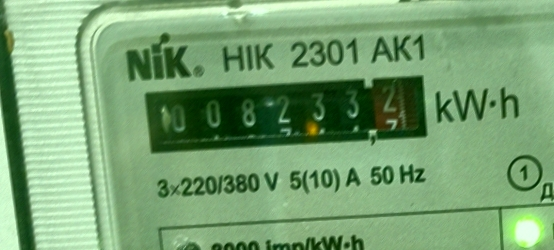0: (168, 102, 190, 135), (204, 99, 225, 131)
2: (273, 94, 295, 127), (381, 83, 400, 116)
3: (310, 91, 329, 123), (345, 88, 364, 120)
8: (240, 97, 259, 130)
screen: (135, 64, 441, 165)
